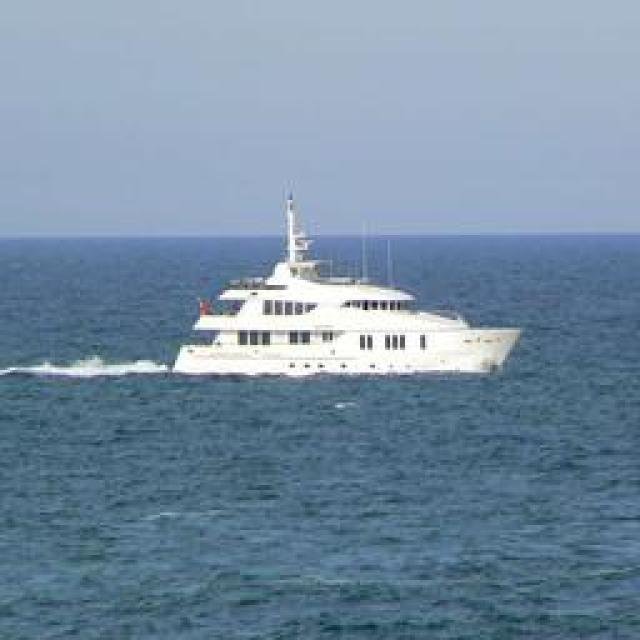ship2: (170, 180, 522, 380)
